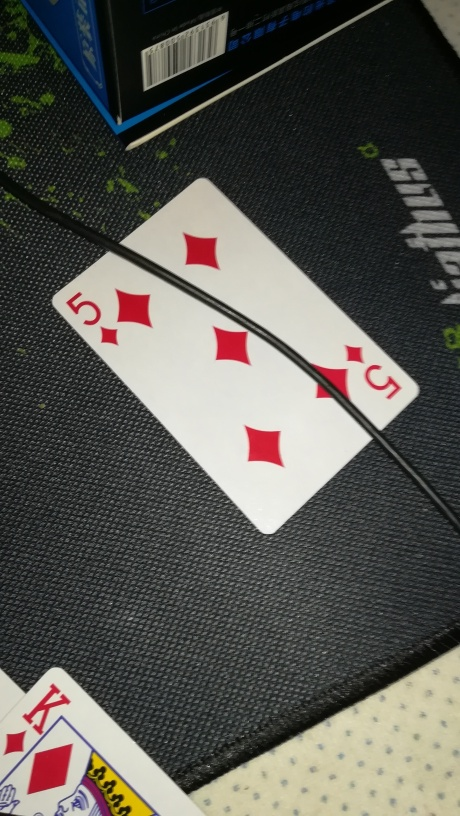fk 5: (50, 176, 421, 537)
